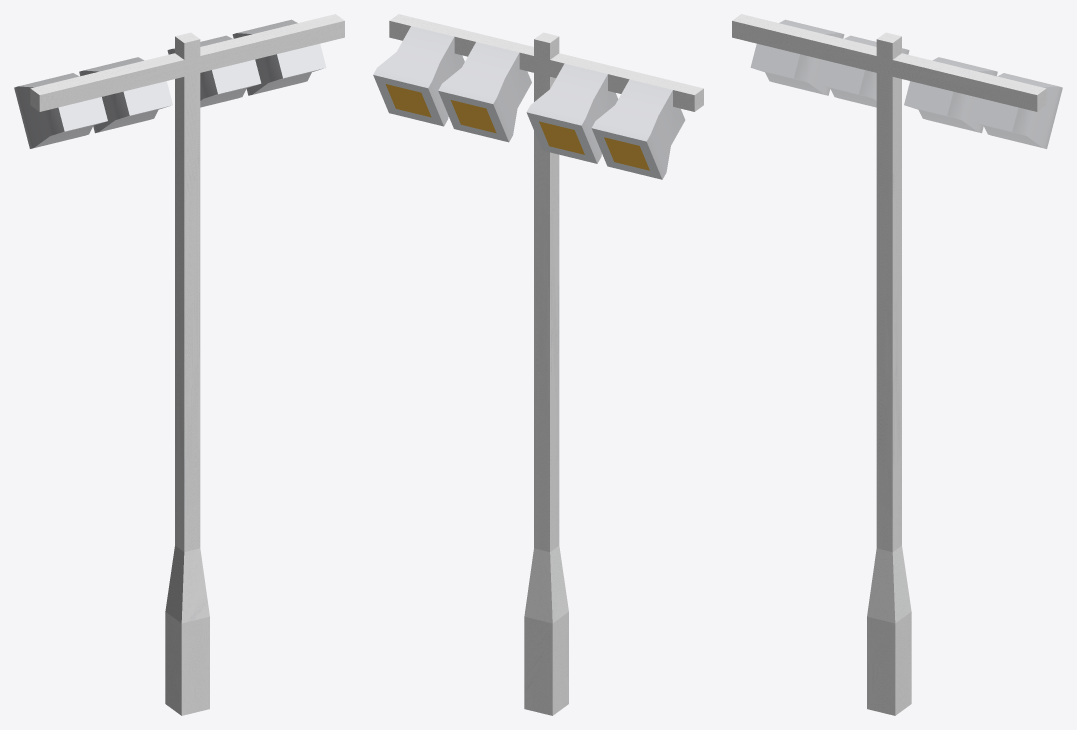
The model's file is kit_lightPostLarge.obj.
3 views of the same model, side by side, from view 1: azimuth 30°, elevation 25°; view 2: azimuth 150°, elevation 25°; view 3: azimuth 330°, elevation 25° (orthographic).
Parts seen in each view (by area): view 1: lightPostLarge; view 2: lightPostLarge; view 3: lightPostLarge.
Part boxes in pixels (bbox=[...]): lightPostLarge: bbox=[14, 14, 344, 715]; lightPostLarge: bbox=[373, 14, 703, 715]; lightPostLarge: bbox=[732, 14, 1062, 715].
Size of the model in its own units: 0.38 by 0.7957 by 0.0971.
